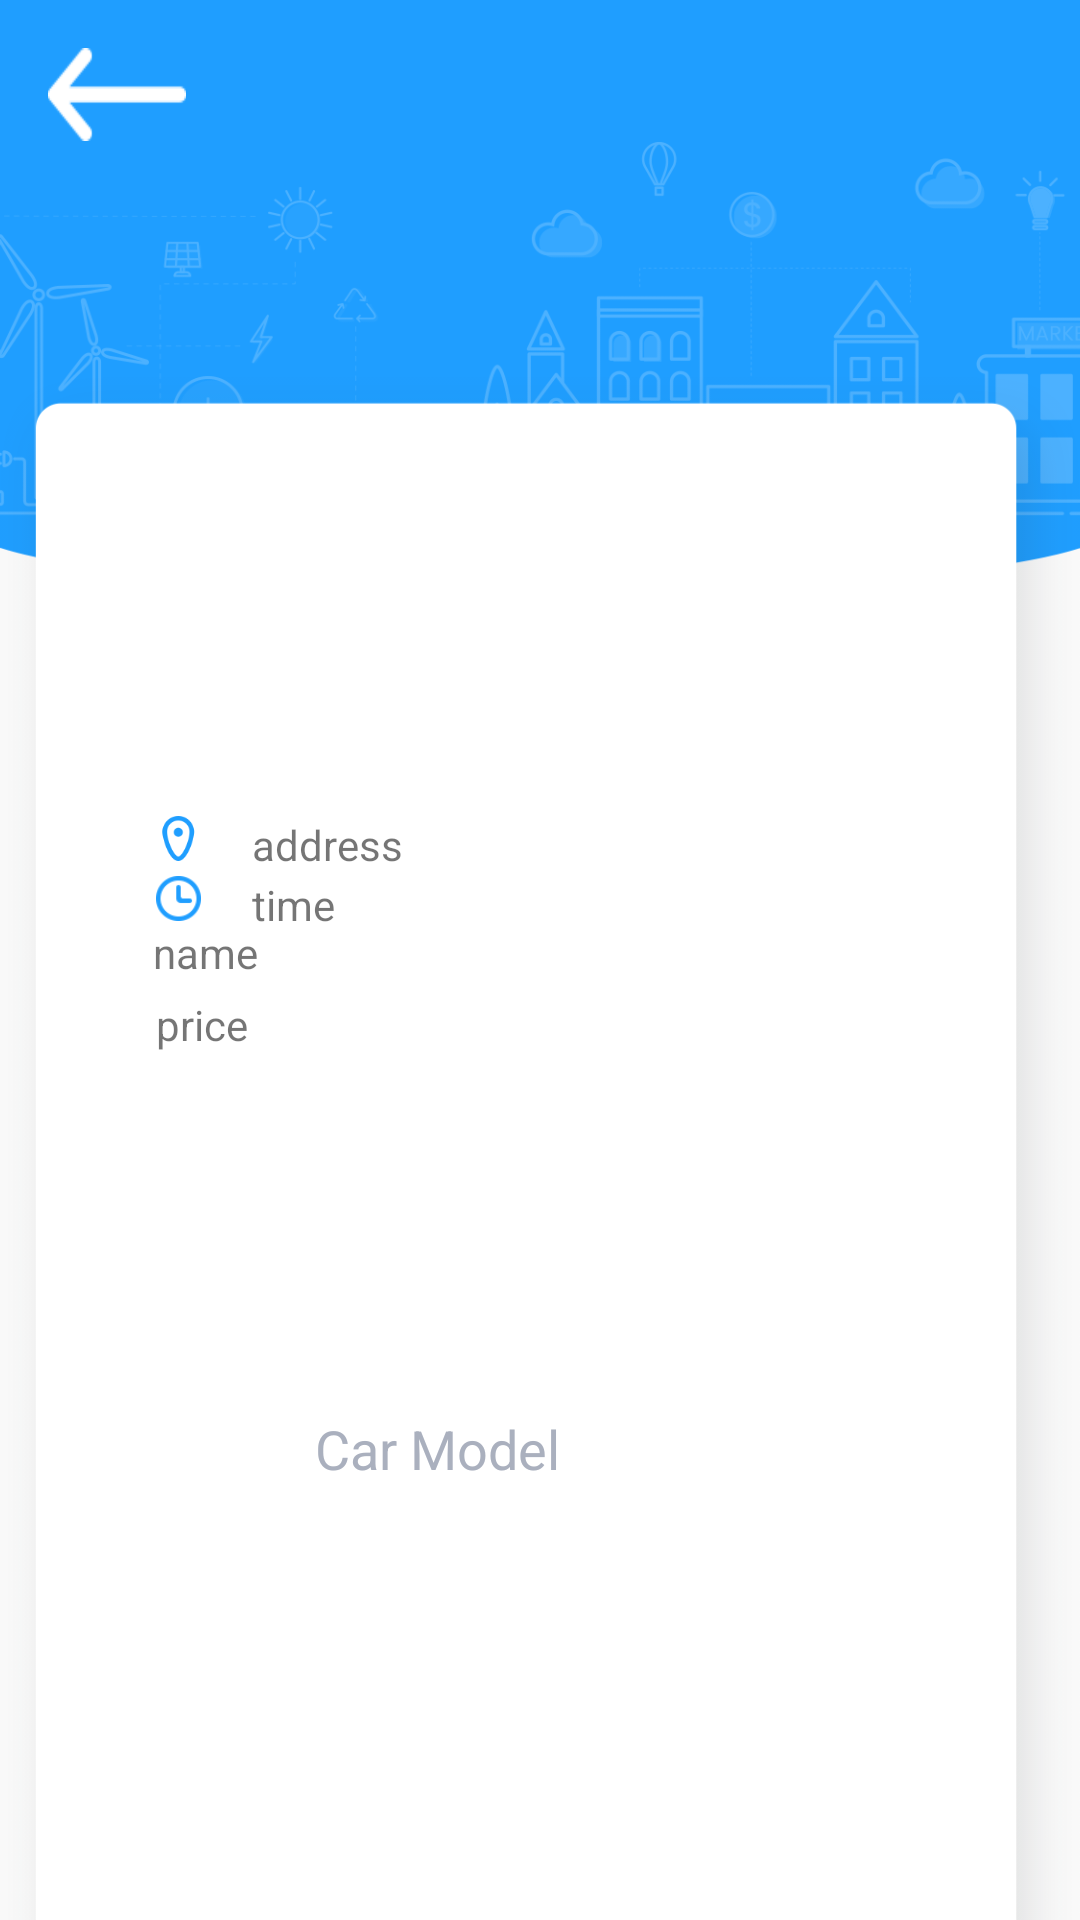

Screen size 1080 x 1920. Icon name, then its box in pixels as (x1, y1, x2, y2):
backarrow: (48, 48, 186, 141)
locationicon: (162, 816, 195, 861)
